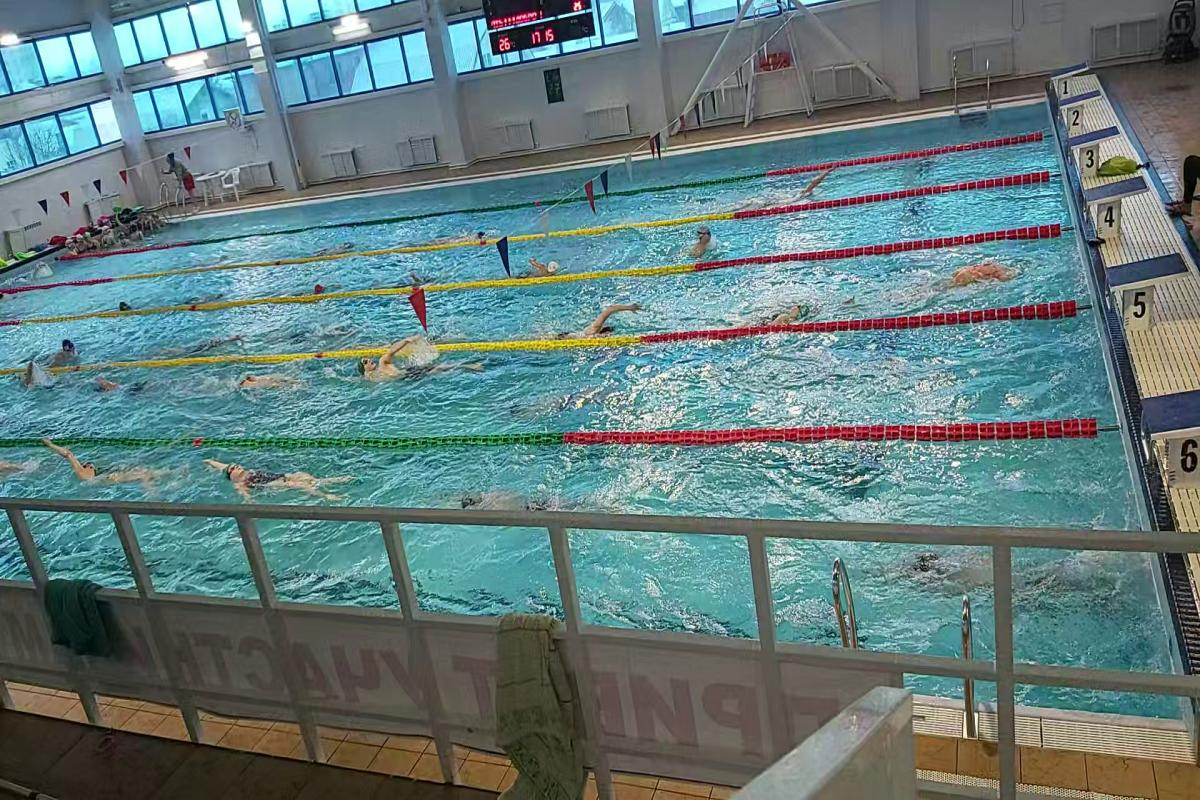swimmer: (201, 450, 361, 502), (39, 446, 186, 492), (351, 350, 466, 388), (928, 256, 1032, 296), (443, 478, 573, 508), (546, 296, 648, 334), (734, 297, 819, 328), (227, 364, 305, 392), (90, 369, 156, 400), (776, 172, 834, 201), (678, 221, 720, 260), (46, 337, 89, 364), (518, 255, 563, 275)
